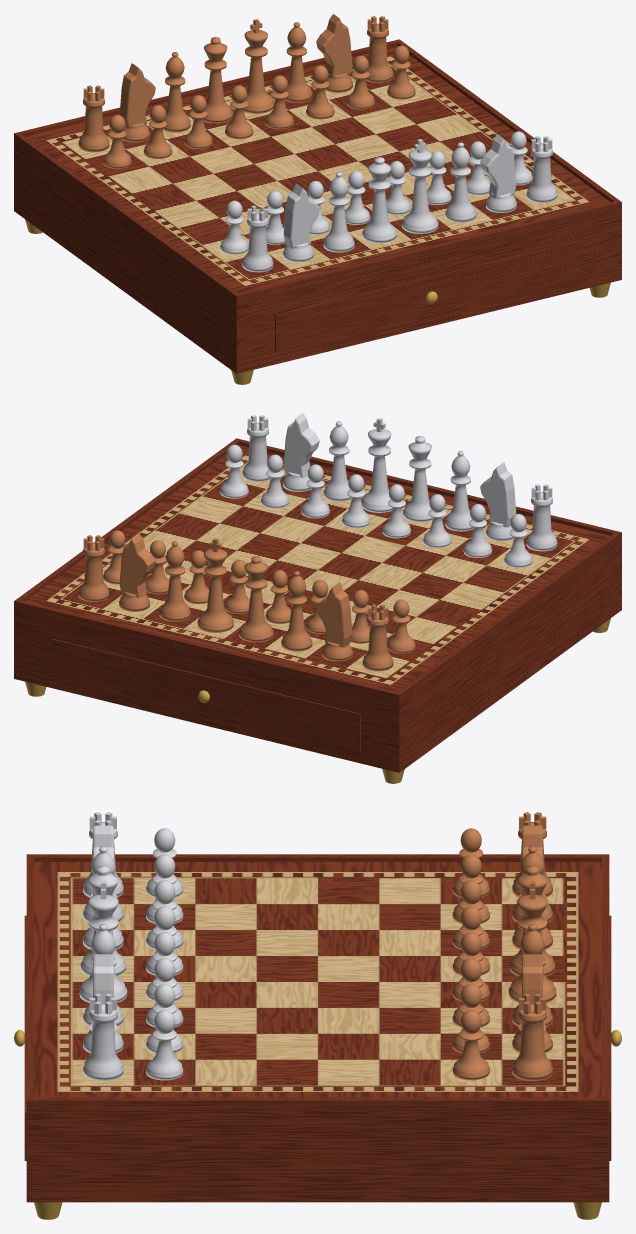
Rendered from philidor-3d-ebene-pieds-38-v2.glb.
The picture shows the model from 3 angles, top to bottom: view 1: azimuth 30°, elevation 25°; view 2: azimuth 150°, elevation 25°; view 3: azimuth 270°, elevation 25°; orthographic projection. The views are drawn at different scales.
Visible parts, largest first — view 1: ebene-pieds-38; view 2: ebene-pieds-38; view 3: ebene-pieds-38.
Boxes of the visible parts, x1,y1,x2,y2 form: ebene-pieds-38: (14,14,621,384); ebene-pieds-38: (14,413,621,783); ebene-pieds-38: (14,812,621,1219).
Size of what is drawn, in the model's own units: 0.38 by 0.169 by 0.3967.
6 materials, 3 textured.
